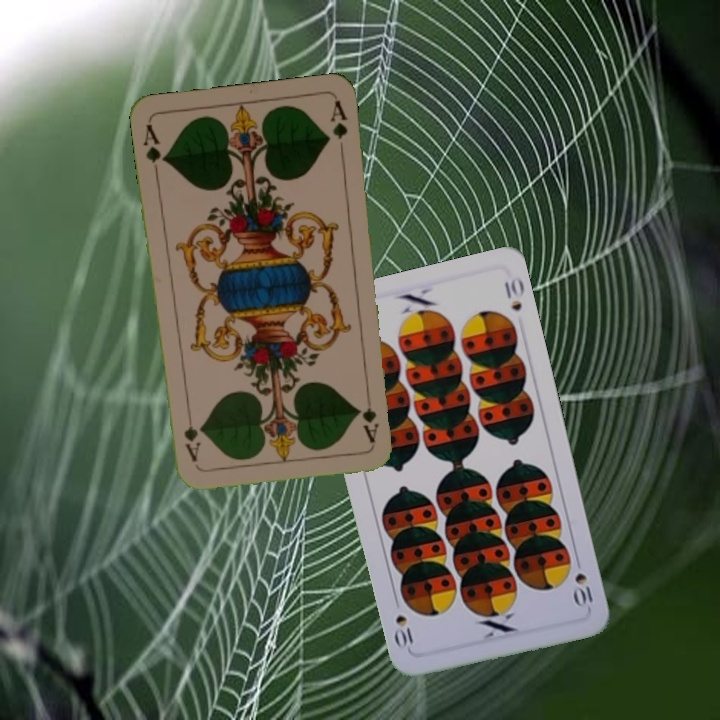GA: (139, 120, 169, 178), (358, 386, 382, 445)
S10: (570, 569, 597, 610)
